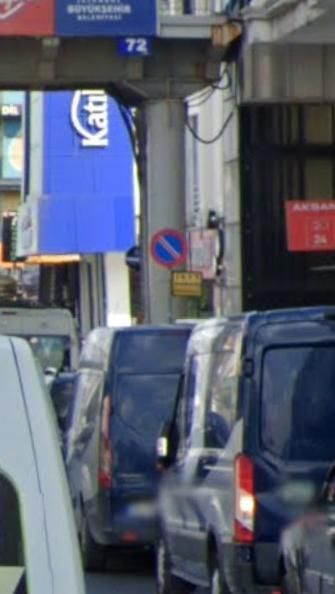nopark: (150, 230, 188, 267)
